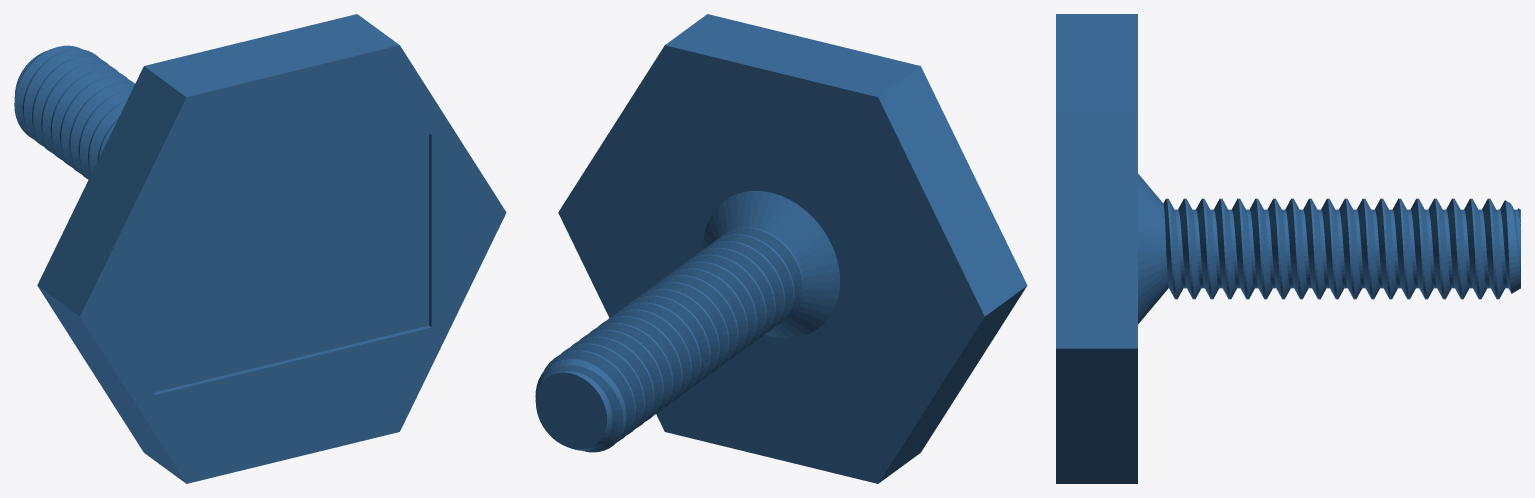
The model's file is andruckteller_M4.dae.
3 views of the same model, side by side, from view 1: azimuth 30°, elevation 25°; view 2: azimuth 150°, elevation 25°; view 3: azimuth 270°, elevation 25° (orthographic). The views are drawn at different scales.
Parts seen in each view (by area): view 1: Andruckteller_M4; view 2: Andruckteller_M4; view 3: Andruckteller_M4.
Part boxes in pixels (x1,y1,x2,y2): Andruckteller_M4: (14, 14, 506, 483); Andruckteller_M4: (535, 14, 1027, 483); Andruckteller_M4: (1056, 14, 1520, 483).
Size of the model in its own units: 18.48 by 18.2 by 16.
